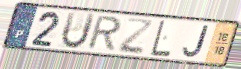2: (28, 8, 63, 49)
J: (181, 25, 211, 59)
L: (149, 19, 173, 58)
R: (85, 15, 124, 52)
U: (60, 10, 97, 51)
Z: (116, 16, 155, 56)
